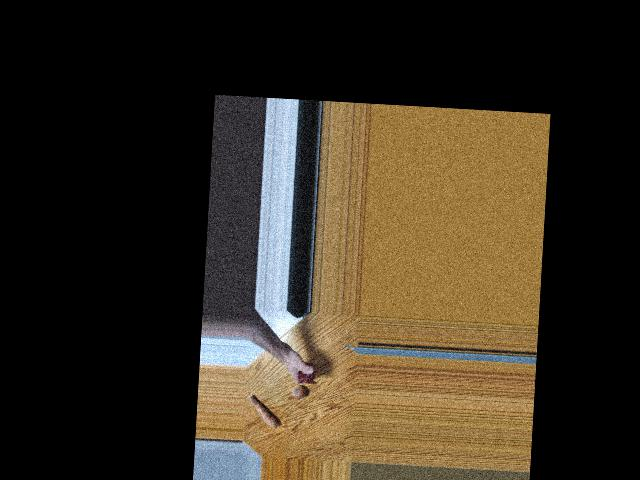onion: (286, 380, 304, 398)
